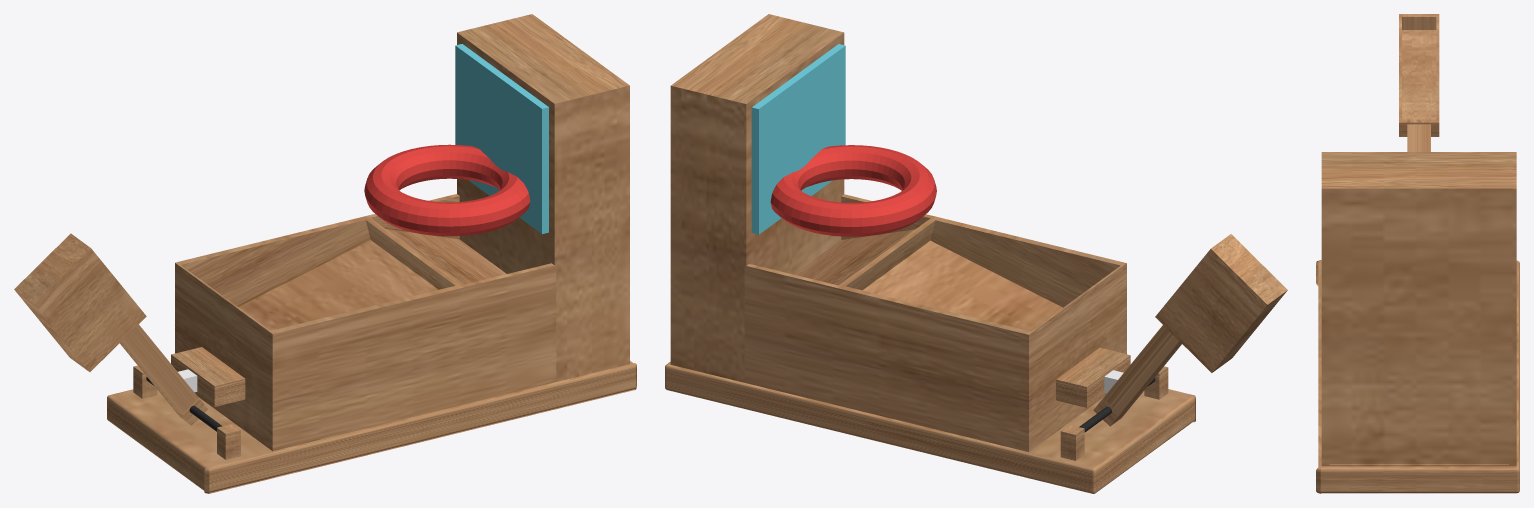
3 renders of one model, left to right at view 1: azimuth 30°, elevation 25°; view 2: azimuth 150°, elevation 25°; view 3: azimuth 270°, elevation 25°, orthographic.
Parts seen in each view (by area): view 1: Cube.004, Cube.005, Cube, Torus, Cube.008, Cube.003, Cube.002, Cube.006, Cube.001; view 2: Cube.004, Cube.005, Cube, Cube.008, Torus, Cube.003, Cube.002, Cube.006, Cube.001; view 3: Cube.005, Cube, Cube.003, Cube.002.
Part boxes in pixels (x1=…): Cube.004: x1=175, y1=194, x2=556, y2=451; Cube.005: x1=457, y1=14, x2=629, y2=381; Cube: x1=107, y1=361, x2=636, y2=493; Torus: x1=364, y1=144, x2=530, y2=236; Cube.008: x1=455, y1=44, x2=548, y2=234; Cube.003: x1=14, y1=233, x2=146, y2=371; Cube.002: x1=119, y1=324, x2=207, y2=425; Cube.006: x1=171, y1=347, x2=245, y2=406; Cube.001: x1=133, y1=365, x2=240, y2=459; Cube.004: x1=744, y1=194, x2=1126, y2=451; Cube.005: x1=670, y1=14, x2=844, y2=382; Cube: x1=665, y1=361, x2=1195, y2=493; Cube.008: x1=751, y1=44, x2=845, y2=234; Torus: x1=770, y1=145, x2=936, y2=236; Cube.003: x1=1155, y1=234, x2=1287, y2=372; Cube.002: x1=1093, y1=325, x2=1181, y2=426; Cube.006: x1=1056, y1=347, x2=1130, y2=407; Cube.001: x1=1060, y1=366, x2=1168, y2=460; Cube.005: x1=1321, y1=152, x2=1516, y2=466; Cube: x1=1316, y1=260, x2=1519, y2=493; Cube.003: x1=1399, y1=14, x2=1439, y2=136; Cube.002: x1=1407, y1=124, x2=1430, y2=151.
Bounding box in the file's own units: 16.17 × 8.34 × 5.08.
5 materials, 1 textured.
